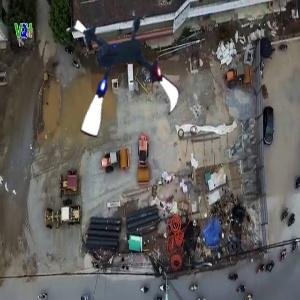drone: (55, 7, 193, 145)
